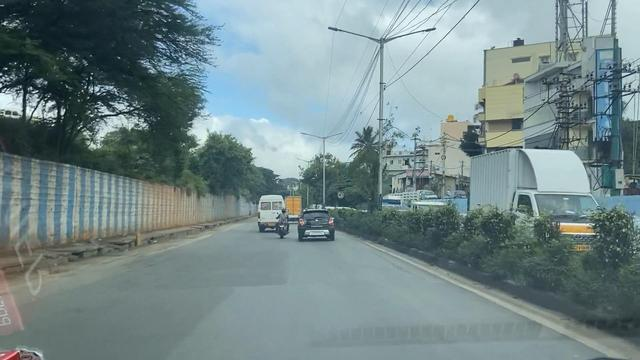LMV: (300, 211, 336, 243), (278, 208, 291, 240)
